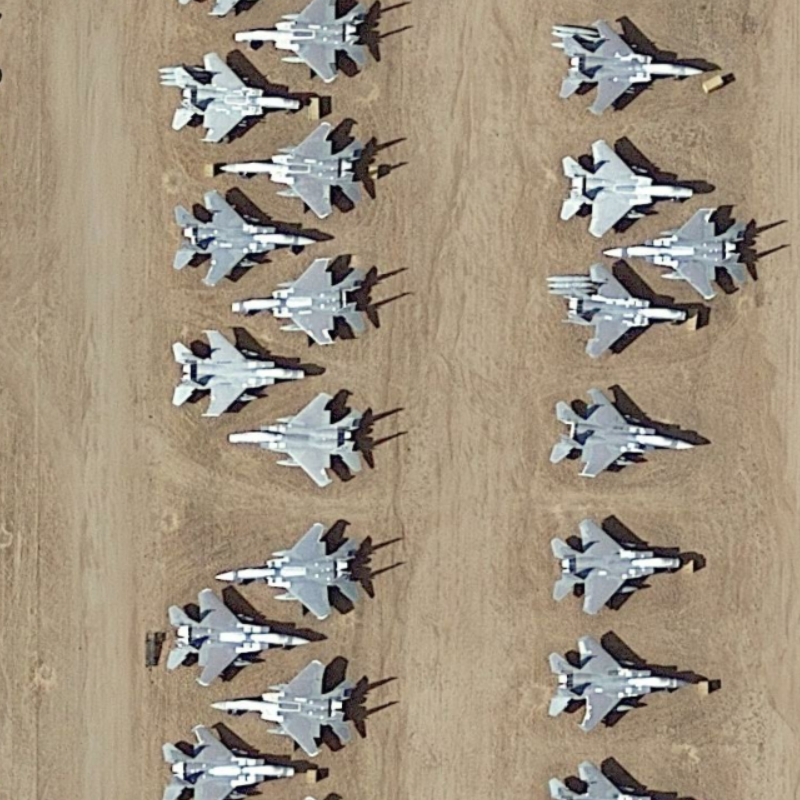A13: (207, 510, 391, 629), (601, 193, 773, 305), (541, 626, 702, 741), (210, 655, 381, 763), (222, 389, 406, 485), (169, 320, 328, 426), (161, 583, 324, 686), (171, 182, 322, 292), (233, 249, 387, 356), (224, 119, 381, 222), (543, 508, 692, 616), (559, 13, 709, 119), (545, 385, 700, 483), (561, 259, 702, 366), (166, 50, 310, 147), (555, 134, 698, 231), (233, 4, 401, 86), (159, 718, 310, 800)
